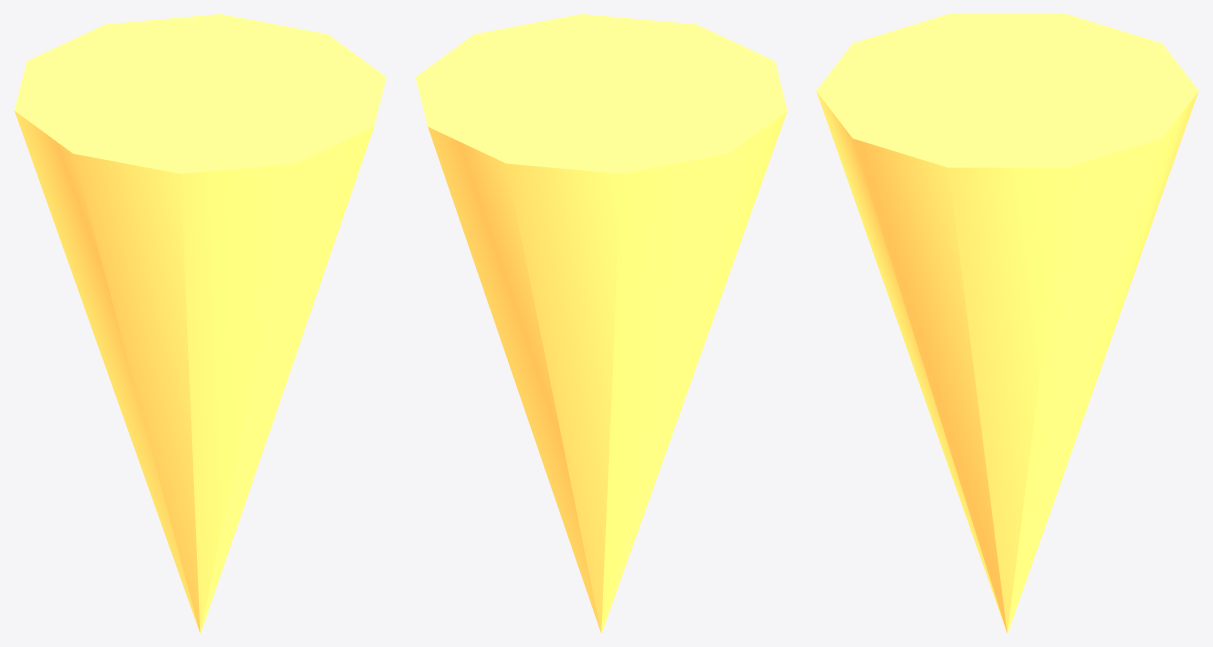
The model's file is flame.glb.
3 views of the same model, side by side, from view 1: azimuth 30°, elevation 25°; view 2: azimuth 150°, elevation 25°; view 3: azimuth 270°, elevation 25° (orthographic).
Parts seen in each view (by area): view 1: flame; view 2: flame; view 3: flame.
Boxes of the visible parts, x1,y1,x2,y2 form: flame: (14,14,386,632); flame: (415,14,787,632); flame: (816,14,1198,632).
Bounding box in the file's own units: 0.6087 × 1 × 0.64.
